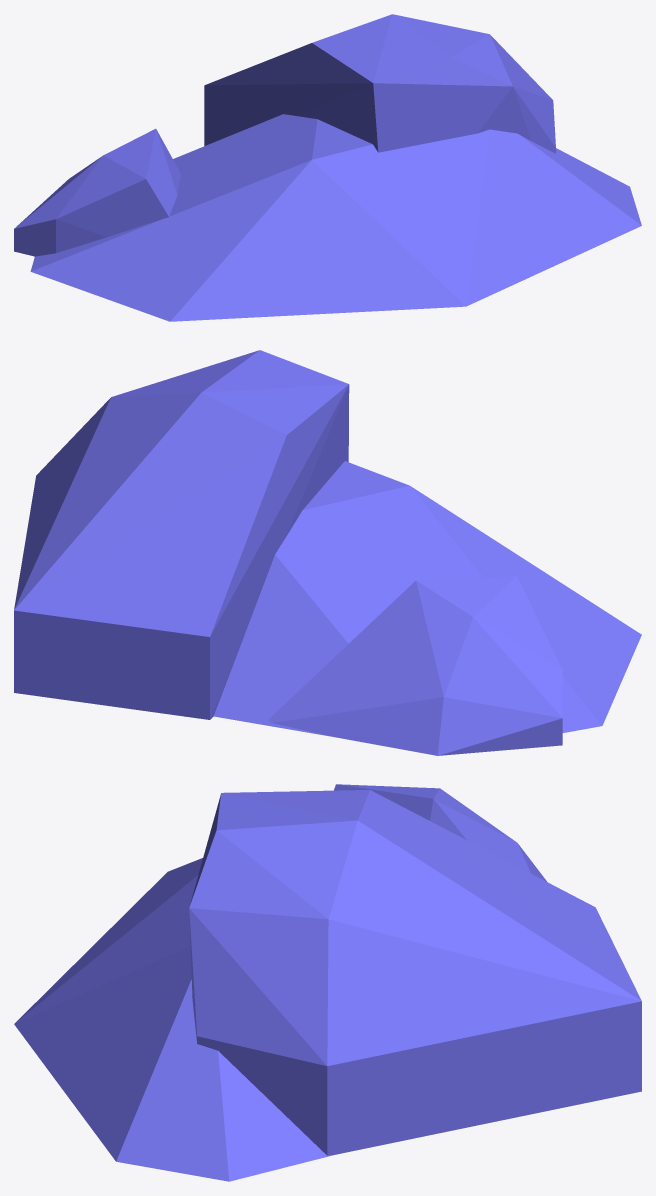
The model's file is Obstacle_12_Colllider_01.FBX.
3 views of the same model, one above another, from view 1: azimuth 30°, elevation 25°; view 2: azimuth 150°, elevation 25°; view 3: azimuth 270°, elevation 25° (orthographic). The views are drawn at different scales.
Visible parts, largest first — view 1: COLLIDER1, COLLIDER2, COLLIDER3; view 2: COLLIDER2, COLLIDER1, COLLIDER3; view 3: COLLIDER2, COLLIDER1, COLLIDER3.
Boxes of the visible parts, x1,y1,x2,y2 form: COLLIDER1: (30, 114, 641, 321); COLLIDER2: (204, 14, 555, 153); COLLIDER3: (14, 128, 180, 256); COLLIDER2: (14, 350, 349, 719); COLLIDER1: (213, 461, 641, 737); COLLIDER3: (268, 576, 562, 755); COLLIDER2: (189, 790, 641, 1155); COLLIDER1: (14, 858, 333, 1181); COLLIDER3: (334, 784, 546, 881).
Size of the model in its own units: 114 by 37.21 by 88.18.
